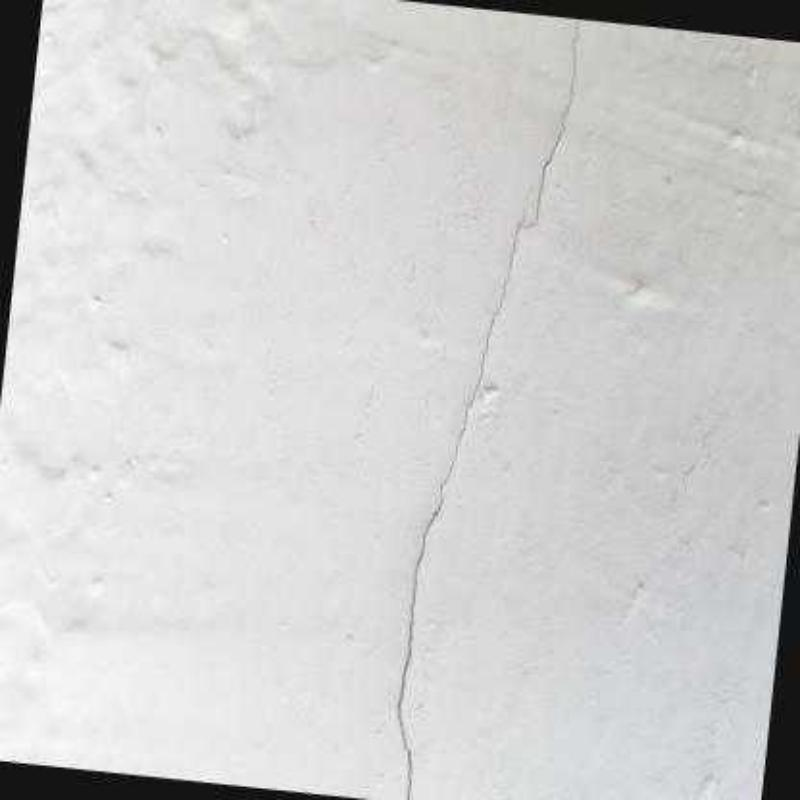crack: (397, 17, 581, 799)
